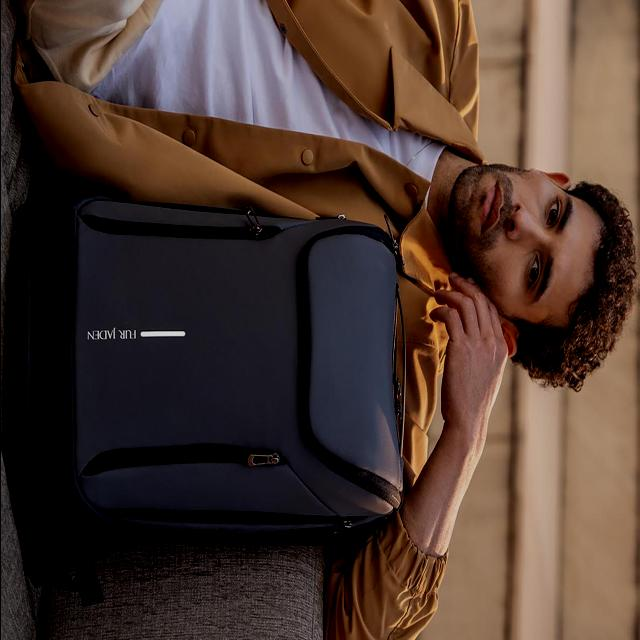backpack: (6, 194, 408, 606)
